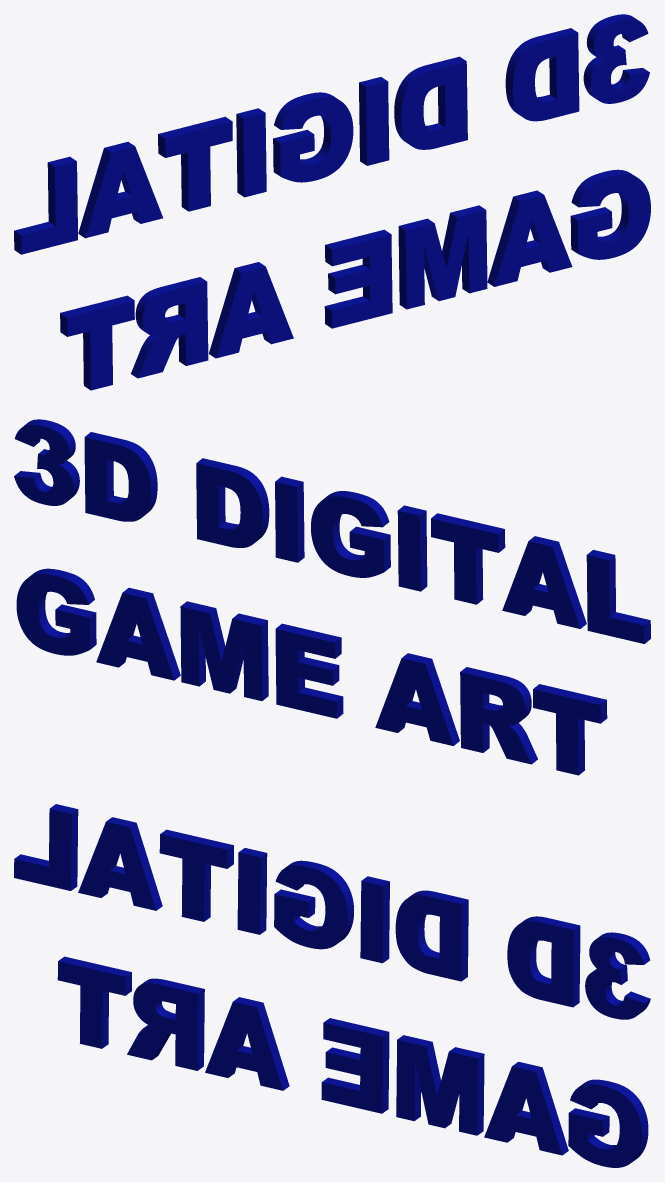
3 views of the same model, one above another, from view 1: azimuth 30°, elevation 25°; view 2: azimuth 150°, elevation 25°; view 3: azimuth 330°, elevation 25° (orthographic). The views are drawn at different scales.
Visible parts, largest first — view 1: Text; view 2: Text; view 3: Text.
Boxes of the visible parts, <box> form: Text: <box>14,14,650,390</box>; Text: <box>14,419,650,775</box>; Text: <box>14,804,650,1167</box>.
Bounding box in the file's own units: 4435 × 1551 × 193.
